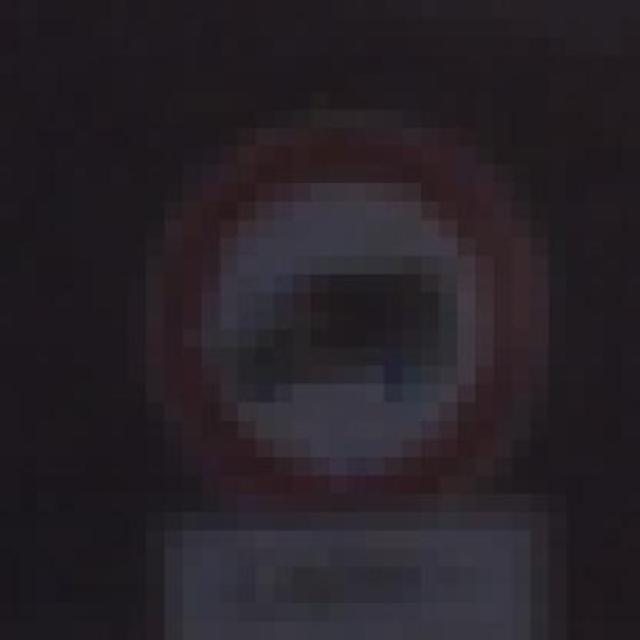Truck traffic is prohibited: (73, 73, 585, 530)
